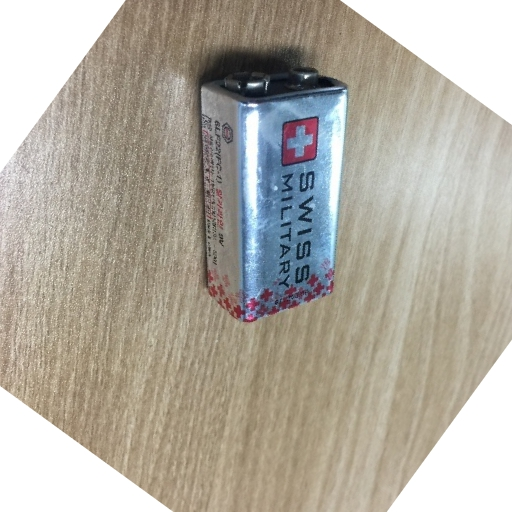Battery_3: (176, 42, 368, 337)
